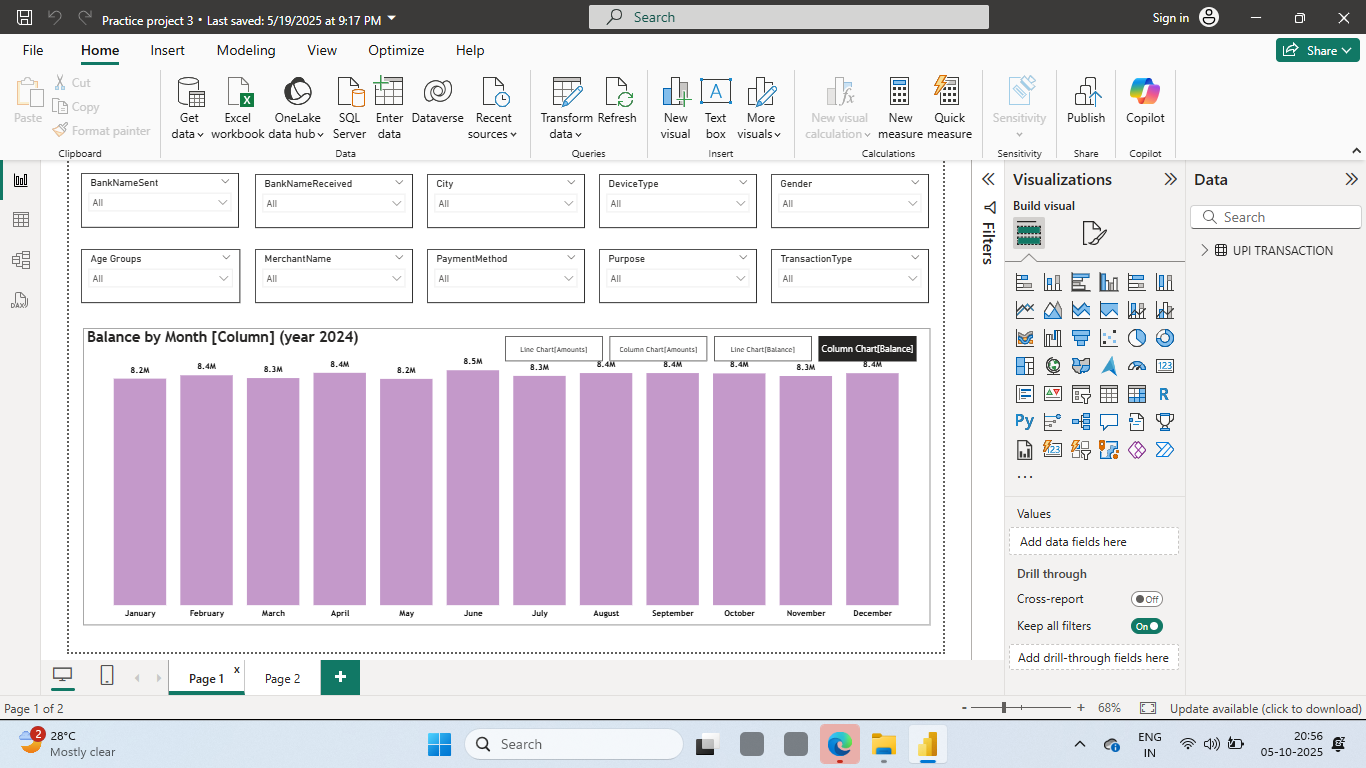

The dashboard page shown, as its layout file describes it:
{"tool":"powerbi","page":{"name":"Page 1","canvas":[1280,720],"ordinal":0},"visuals":[{"type":"slicer","fields":{"Values":["UPI TRANSACTION.Age Groups"]},"box":[17.6,130.2,232.7,79],"z":0},{"type":"slicer","fields":{"Values":["UPI TRANSACTION.BankNameReceived"]},"box":[272.2,20.5,231.2,79],"z":1000},{"type":"slicer","fields":{"Values":["UPI TRANSACTION.City"]},"box":[524,20.5,231.2,79],"z":2000},{"type":"slicer","fields":{"Values":["UPI TRANSACTION.DeviceType"]},"box":[776,20.5,231.2,79],"z":3000},{"type":"slicer","fields":{"Values":["UPI TRANSACTION.Gender"]},"box":[1028,20,231.2,79],"z":4000},{"type":"slicer","fields":{"Values":["Sheet1.BankNameSent"]},"box":[17.6,19,231.2,80.5],"z":5000},{"type":"slicer","fields":{"Values":["UPI TRANSACTION.MerchantName"]},"box":[272.2,130.2,231.2,79],"z":6000},{"type":"slicer","fields":{"Values":["UPI TRANSACTION.PaymentMethod"]},"box":[523.9,130.2,231.2,79],"z":7000},{"type":"slicer","fields":{"Values":["UPI TRANSACTION.Purpose"]},"box":[775.6,130.2,231.2,79],"z":8000},{"type":"slicer","fields":{"Values":["UPI TRANSACTION.TransactionType"]},"box":[1027.3,130.2,231.2,79],"z":9000},{"type":"columnChart","title":"Balance by Month [Column] (year 2024)","fields":{"Category":["UPI TRANSACTION.TransactionDate.Variation.Date Hierarchy.Month"],"Y":["Sum(UPI TRANSACTION.RemainingBalance)"]},"box":[20.8,245.6,1239.8,434.6],"z":13000},{"type":"bookmarkNavigator","box":[638.5,257.5,605.8,37.2],"z":14500}]}

Visuals, with their boxes on the page's 1280x720 design canvas (x1, y1, x2, y2). These are canvas units, not pixel positions in the 1366x768 screenshot, which may show the page scaled, cropped or inside an application window:
slicer - UPI TRANSACTION.Age Groups: pyautogui.locateOnScreen(18, 130, 250, 209)
slicer - UPI TRANSACTION.BankNameReceived: pyautogui.locateOnScreen(272, 20, 503, 100)
slicer - UPI TRANSACTION.City: pyautogui.locateOnScreen(524, 20, 755, 100)
slicer - UPI TRANSACTION.DeviceType: pyautogui.locateOnScreen(776, 20, 1007, 100)
slicer - UPI TRANSACTION.Gender: pyautogui.locateOnScreen(1028, 20, 1259, 99)
slicer - Sheet1.BankNameSent: pyautogui.locateOnScreen(18, 19, 249, 100)
slicer - UPI TRANSACTION.MerchantName: pyautogui.locateOnScreen(272, 130, 503, 209)
slicer - UPI TRANSACTION.PaymentMethod: pyautogui.locateOnScreen(524, 130, 755, 209)
slicer - UPI TRANSACTION.Purpose: pyautogui.locateOnScreen(776, 130, 1007, 209)
slicer - UPI TRANSACTION.TransactionType: pyautogui.locateOnScreen(1027, 130, 1258, 209)
"Balance by Month [Column] (year 2024)" columnChart: pyautogui.locateOnScreen(21, 246, 1261, 680)
bookmarkNavigator: pyautogui.locateOnScreen(638, 258, 1244, 295)
